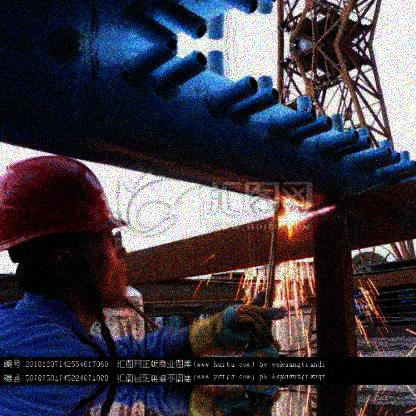helmet: (1, 153, 139, 313)
